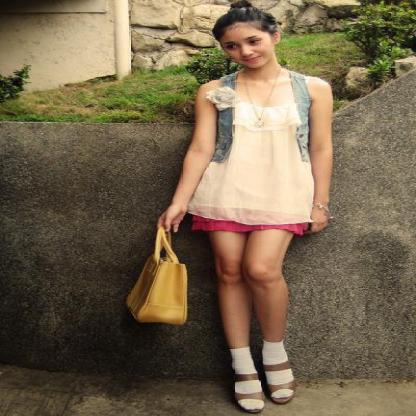bag: (127, 228, 186, 322)
dress: (193, 99, 313, 241)
jacket: (208, 68, 311, 164)
shoe: (229, 362, 292, 416)
